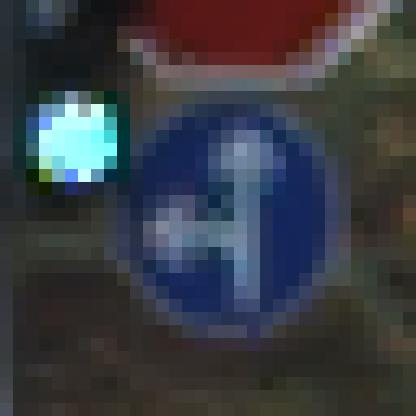Straight or Left: (79, 79, 352, 352)
